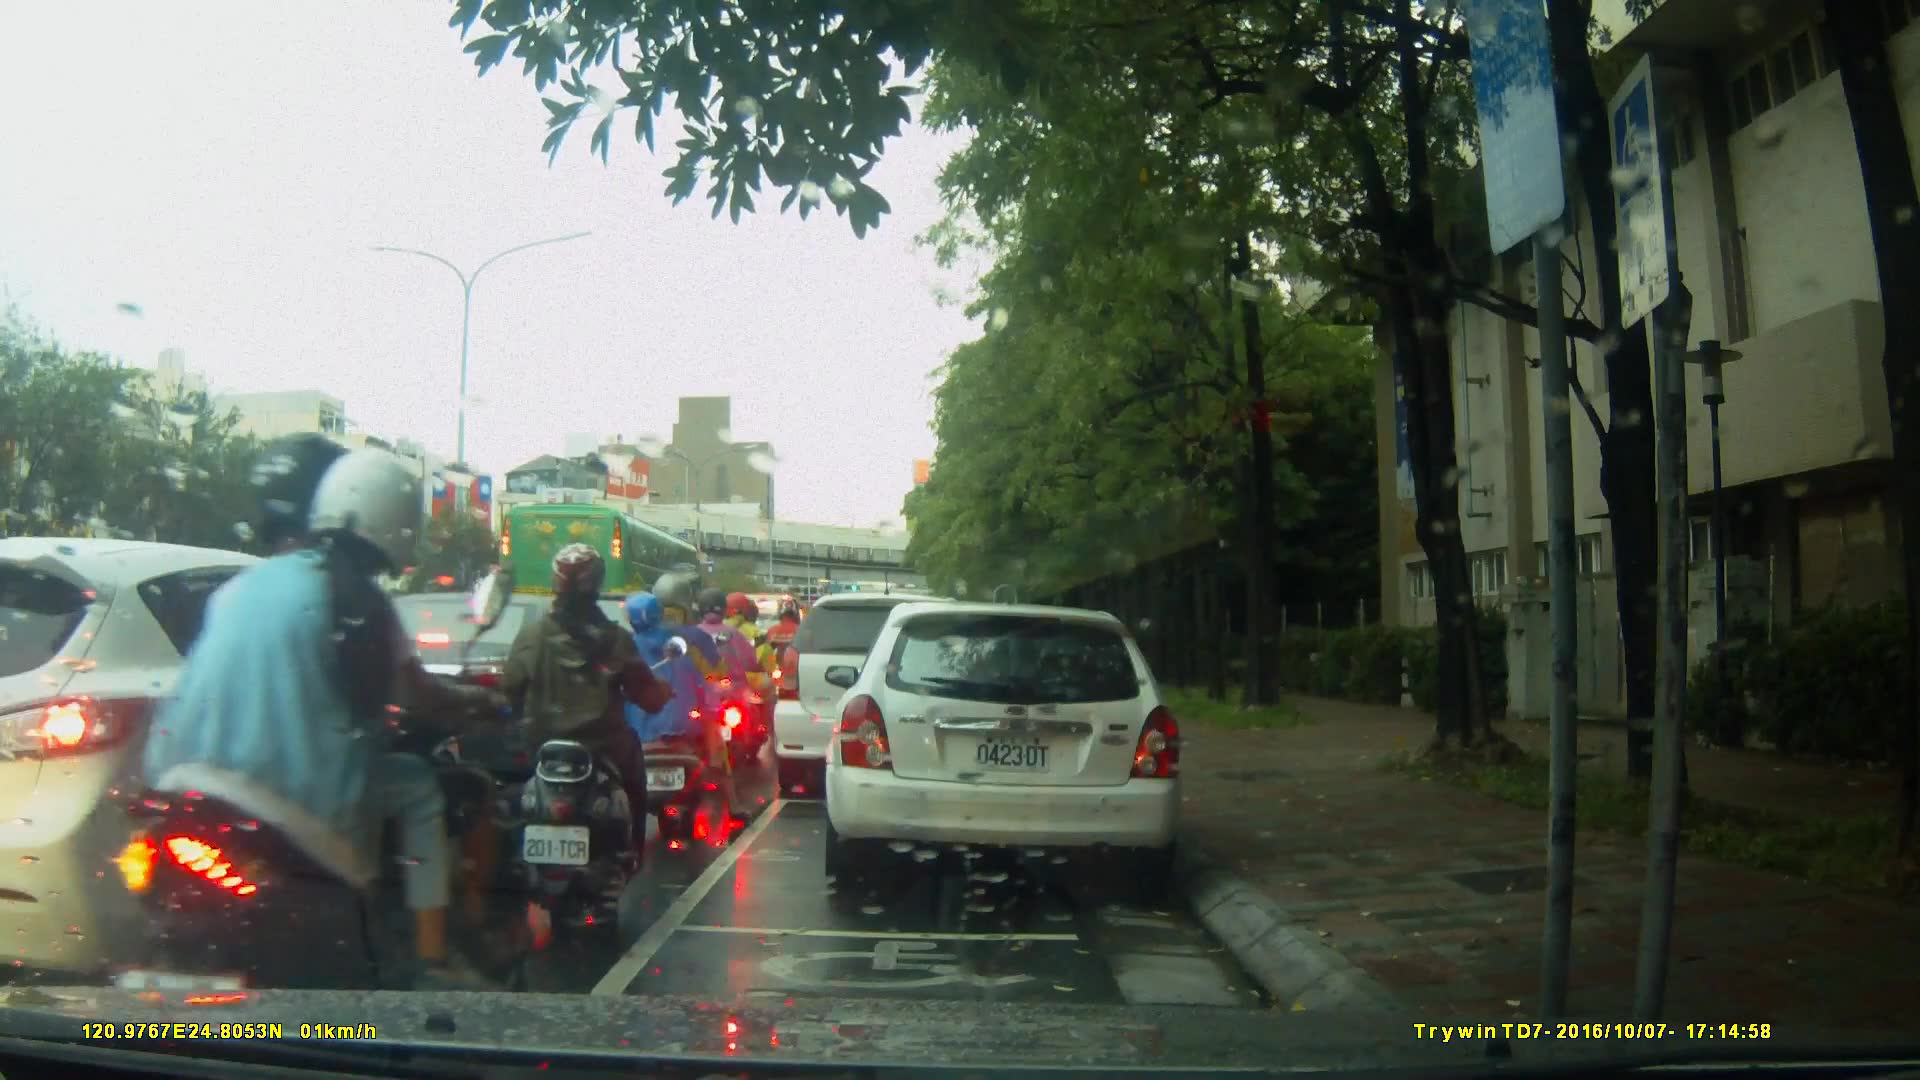rider: (83, 425, 523, 1040), (501, 539, 682, 930), (623, 580, 716, 826), (685, 592, 757, 774), (723, 595, 790, 763), (767, 596, 813, 732)
vehicle: (4, 535, 466, 988), (831, 592, 1196, 897), (312, 589, 629, 776), (771, 590, 999, 804), (501, 503, 709, 636)
